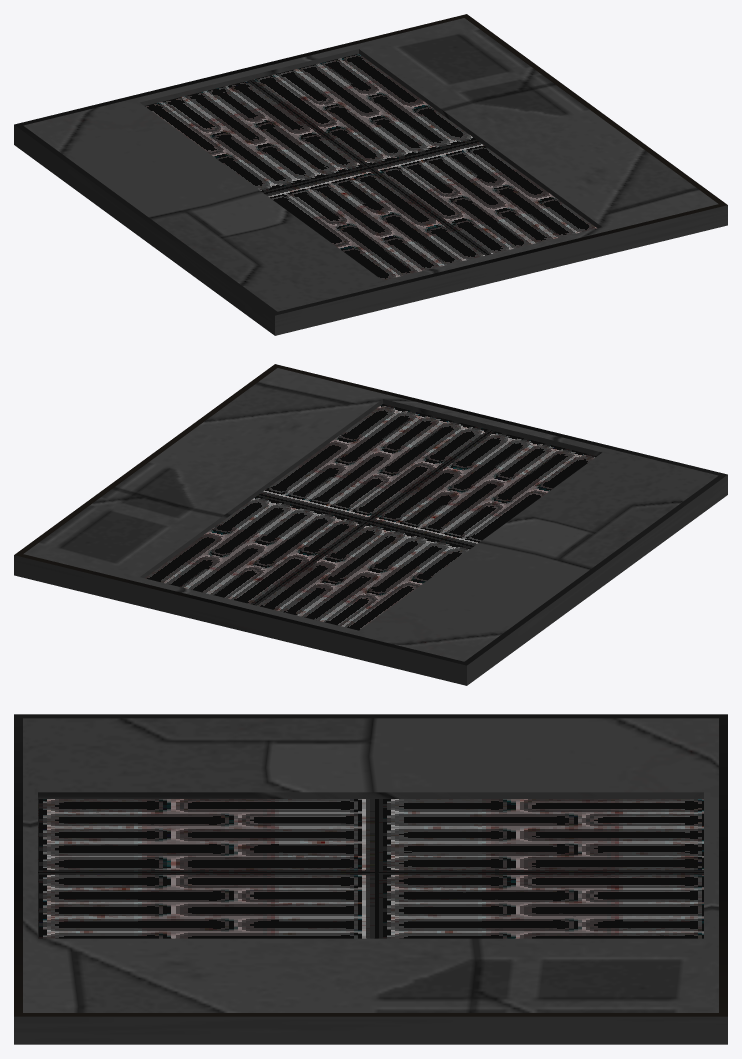
The model's file is floor01.gltf.
The picture shows the model from 3 angles, top to bottom: view 1: azimuth 30°, elevation 25°; view 2: azimuth 150°, elevation 25°; view 3: azimuth 270°, elevation 25°; orthographic projection. The views are drawn at different scales.
Visible parts, largest first — view 1: Cube, Plane; view 2: Cube, Plane; view 3: Cube, Plane.
Boxes of the visible parts, <box> form: Cube: <box>14,14,727,335</box>; Plane: <box>145,54,596,280</box>; Cube: <box>14,364,727,685</box>; Plane: <box>145,404,596,630</box>; Cube: <box>14,714,727,1044</box>; Plane: <box>38,799,703,938</box>.
Size of the model in its own units: 2 by 0.0857 by 2.
2 materials, 2 textured.
